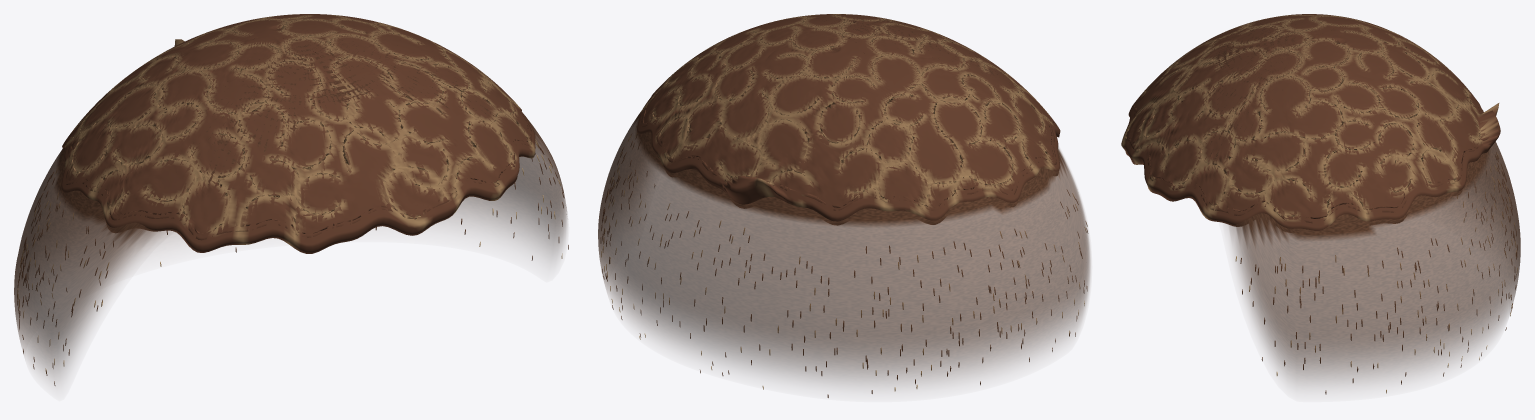
File: Highlights-bba2663b5d75251-hair.glb
3 views of the same model, side by side, from view 1: azimuth 30°, elevation 25°; view 2: azimuth 150°, elevation 25°; view 3: azimuth 270°, elevation 25° (orthographic). The views are drawn at different scales.
Visible parts, largest first — view 1: 226 hair / Hair / sculpted curly crown251.001, 226 hair / Hair / clipped grain251.001, 226 hair / Hair / close cut strokes251.001; view 2: 226 hair / Hair / clipped grain251.001, 226 hair / Hair / sculpted curly crown251.001, 226 hair / Hair / close cut strokes251.001; view 3: 226 hair / Hair / sculpted curly crown251.001, 226 hair / Hair / clipped grain251.001, 226 hair / Hair / close cut strokes251.001.
Boxes of the visible parts, x1,y1,x2,y2 form: 226 hair / Hair / sculpted curly crown251.001: [61, 14, 535, 253]; 226 hair / Hair / clipped grain251.001: [14, 28, 567, 381]; 226 hair / Hair / close cut strokes251.001: [17, 139, 568, 385]; 226 hair / Hair / clipped grain251.001: [598, 14, 1090, 386]; 226 hair / Hair / sculpted curly crown251.001: [637, 14, 1060, 225]; 226 hair / Hair / close cut strokes251.001: [601, 134, 1088, 397]; 226 hair / Hair / sculpted curly crown251.001: [1121, 14, 1500, 231]; 226 hair / Hair / clipped grain251.001: [1203, 17, 1520, 386]; 226 hair / Hair / close cut strokes251.001: [1235, 152, 1517, 394].
Bounding box in the file's own units: 0.9812 × 0.5824 × 0.7749.
Materials: 3 (1 with a texture image).
